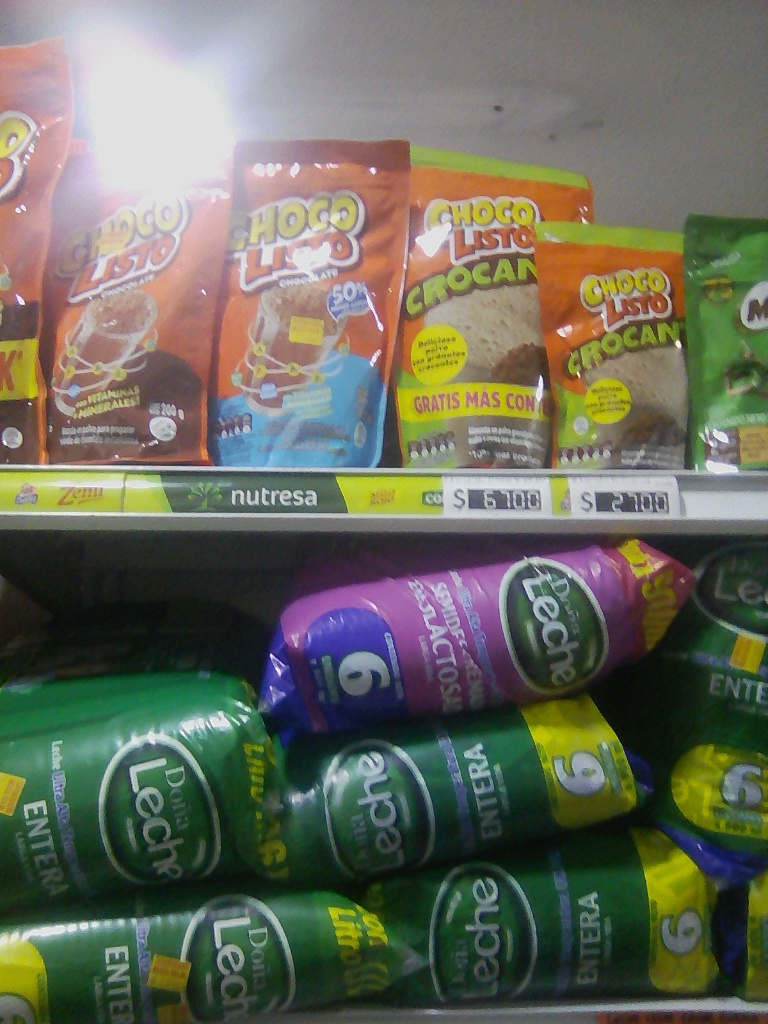COL0170102DYP10000: (534, 222, 688, 470)
COL0170102DYP50000: (393, 134, 592, 464)
COL0170103DYP20000: (52, 168, 230, 469)
COL0170104DYP20000: (202, 144, 413, 465)
